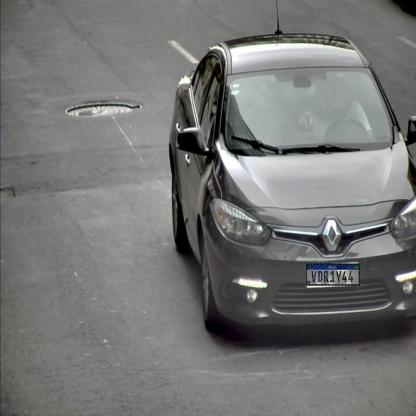PlacaM: (306, 264, 360, 286)
